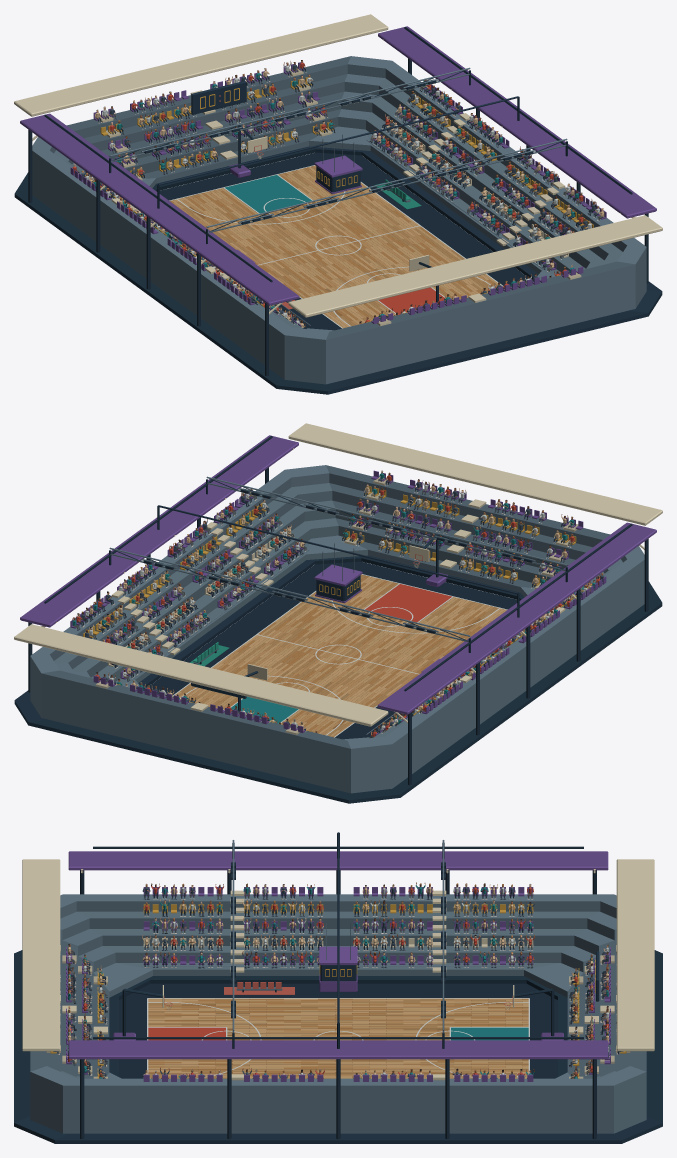
Rendered from hoops-v4-arena-lod.glb.
3 views of the same model, one above another, from view 1: azimuth 30°, elevation 25°; view 2: azimuth 150°, elevation 25°; view 3: azimuth 270°, elevation 25° (orthographic). The views are drawn at different scales.
Parts seen in each view (by area): view 1: arena_shell, roof, court_surface, seated_crowd, individual_seats, court_runoff, lighting_trusses, stand_stairs, painted_keys, hanging_scoreboard, beams, court_markings (+3 smaller); view 2: arena_shell, roof, court_surface, seated_crowd, individual_seats, court_runoff, lighting_trusses, stand_stairs, painted_keys, hanging_scoreboard, beams, court_markings (+1 smaller); view 3: arena_shell, roof, court_surface, seated_crowd, individual_seats, court_runoff, lighting_trusses, stand_stairs, beams, hanging_scoreboard, painted_keys, court_markings (+4 smaller).
Part boxes in pixels (left/top/right/bottom): arena_shell: left=14, top=56, right=662, bottom=394; roof: left=14, top=14, right=662, bottom=317; court_surface: left=170, top=165, right=501, bottom=328; seated_crowd: left=72, top=60, right=604, bottom=328; individual_seats: left=70, top=62, right=606, bottom=326; court_runoff: left=159, top=152, right=527, bottom=330; lighting_trusses: left=44, top=27, right=632, bottom=282; stand_stairs: left=99, top=68, right=581, bottom=325; painted_keys: left=225, top=175, right=445, bottom=314; hanging_scoreboard: left=157, top=96, right=519, bottom=208; beams: left=28, top=39, right=648, bottom=376; court_markings: left=169, top=165, right=503, bottom=328; arena_shell: left=14, top=465, right=662, bottom=803; roof: left=14, top=423, right=662, bottom=726; court_surface: left=175, top=574, right=506, bottom=737; seated_crowd: left=72, top=470, right=604, bottom=737; individual_seats: left=70, top=470, right=606, bottom=735; court_runoff: left=146, top=561, right=517, bottom=739; lighting_trusses: left=44, top=436, right=632, bottom=691; stand_stairs: left=95, top=476, right=578, bottom=734; painted_keys: left=231, top=584, right=451, bottom=723; hanging_scoreboard: left=157, top=505, right=519, bottom=617; beams: left=28, top=448, right=648, bottom=785; court_markings: left=172, top=574, right=507, bottom=737; arena_shell: left=14, top=894, right=662, bottom=1143; roof: left=22, top=851, right=654, bottom=1059; court_surface: left=148, top=998, right=528, bottom=1078; seated_crowd: left=53, top=882, right=623, bottom=1079; individual_seats: left=50, top=887, right=626, bottom=1081; court_runoff: left=119, top=983, right=557, bottom=1078; lighting_trusses: left=93, top=840, right=583, bottom=1048; stand_stairs: left=46, top=890, right=630, bottom=1080; beams: left=80, top=869, right=596, bottom=1139; hanging_scoreboard: left=319, top=832, right=357, bottom=1048; painted_keys: left=148, top=1027, right=528, bottom=1040; court_markings: left=147, top=998, right=529, bottom=1078.
Bounding box in the file's own units: 35.6 × 9.39 × 47.6.
